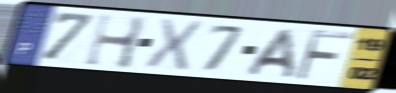7: (43, 10, 97, 63), (204, 23, 248, 74)
A: (242, 26, 297, 80)
F: (293, 27, 356, 82)
H: (81, 11, 150, 71)
X: (142, 17, 205, 72)
